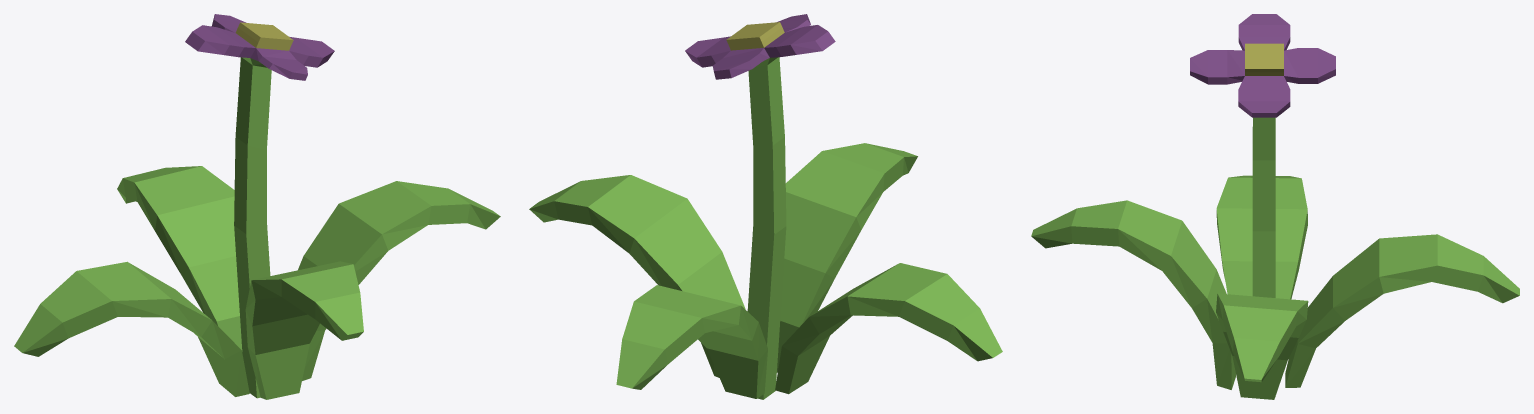
The model's file is fLOWER.fbx.
The picture shows the model from 3 angles, left to right: view 1: azimuth 30°, elevation 25°; view 2: azimuth 150°, elevation 25°; view 3: azimuth 270°, elevation 25°; orthographic projection. The views are drawn at different scales.
Parts seen in each view (by area): view 1: pCube132; view 2: pCube132; view 3: pCube132.
Boxes of the visible parts, box(x1,y1,x2,y2) form: pCube132: box(14, 14, 500, 399); pCube132: box(529, 14, 1002, 399); pCube132: box(1031, 14, 1519, 399).
Bounding box in the file's own units: 3.72 × 2.79 × 3.54.
